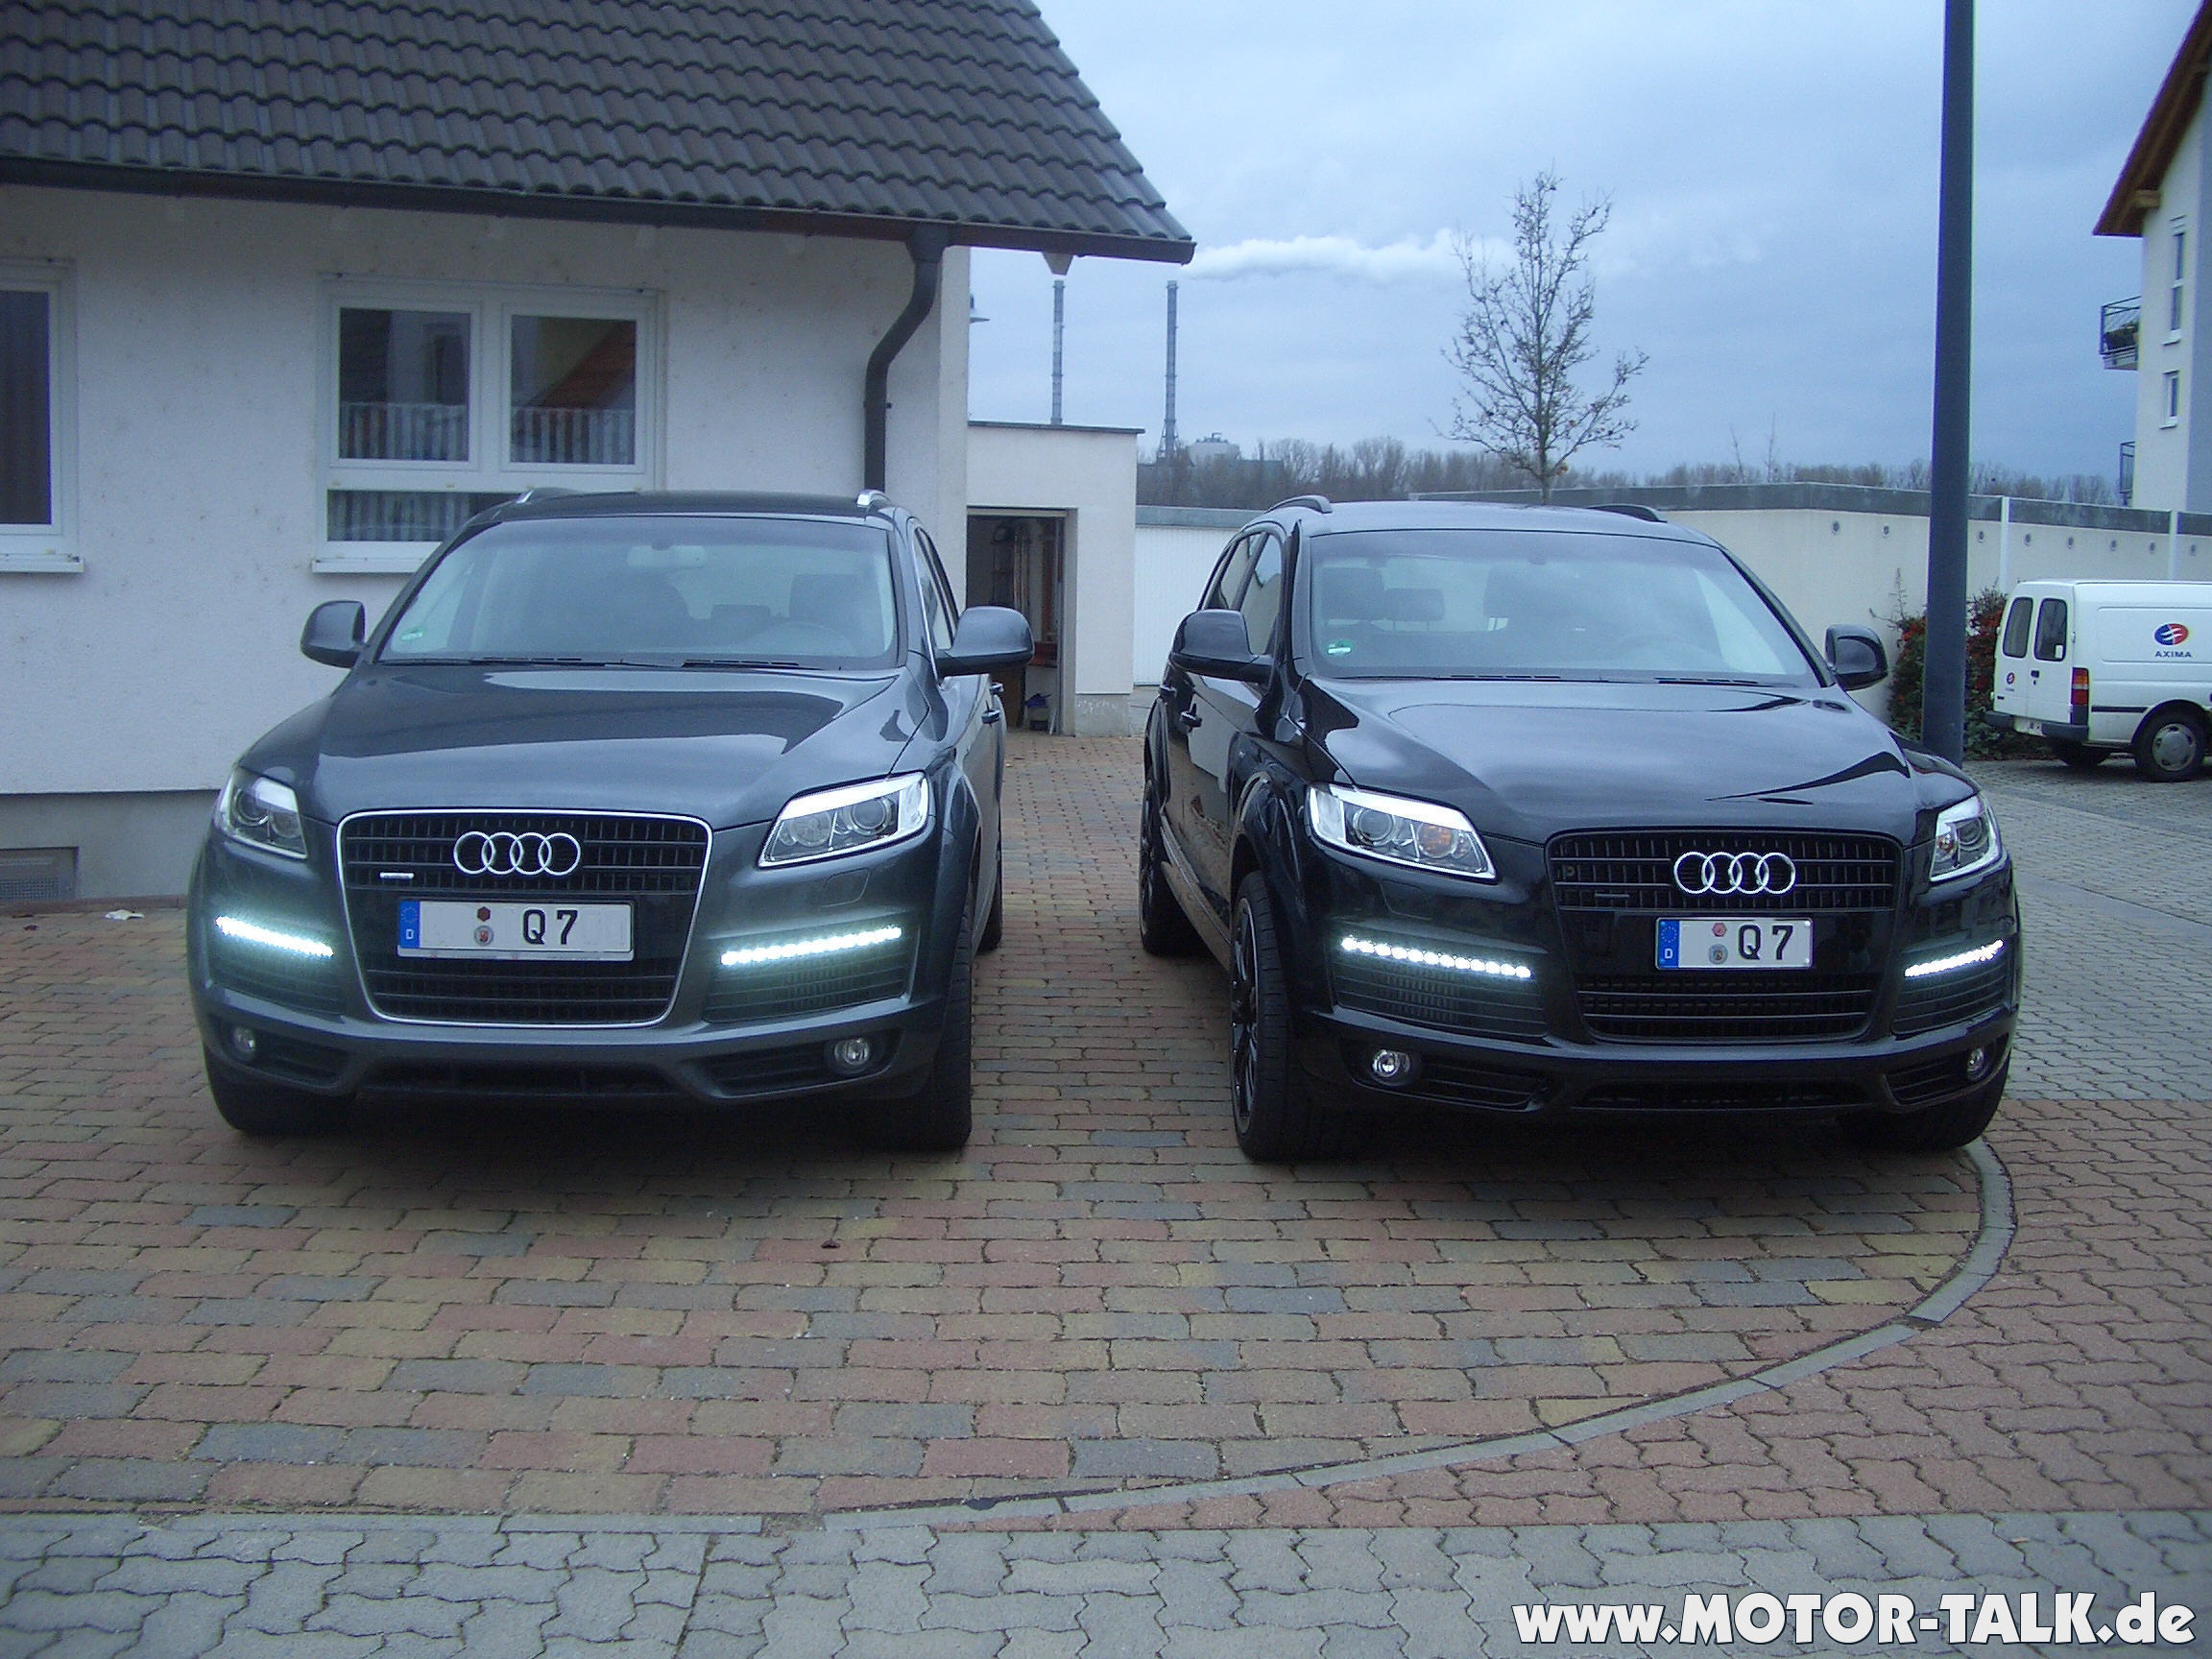car: (1141, 502, 2038, 1157), (160, 497, 1024, 1134)
